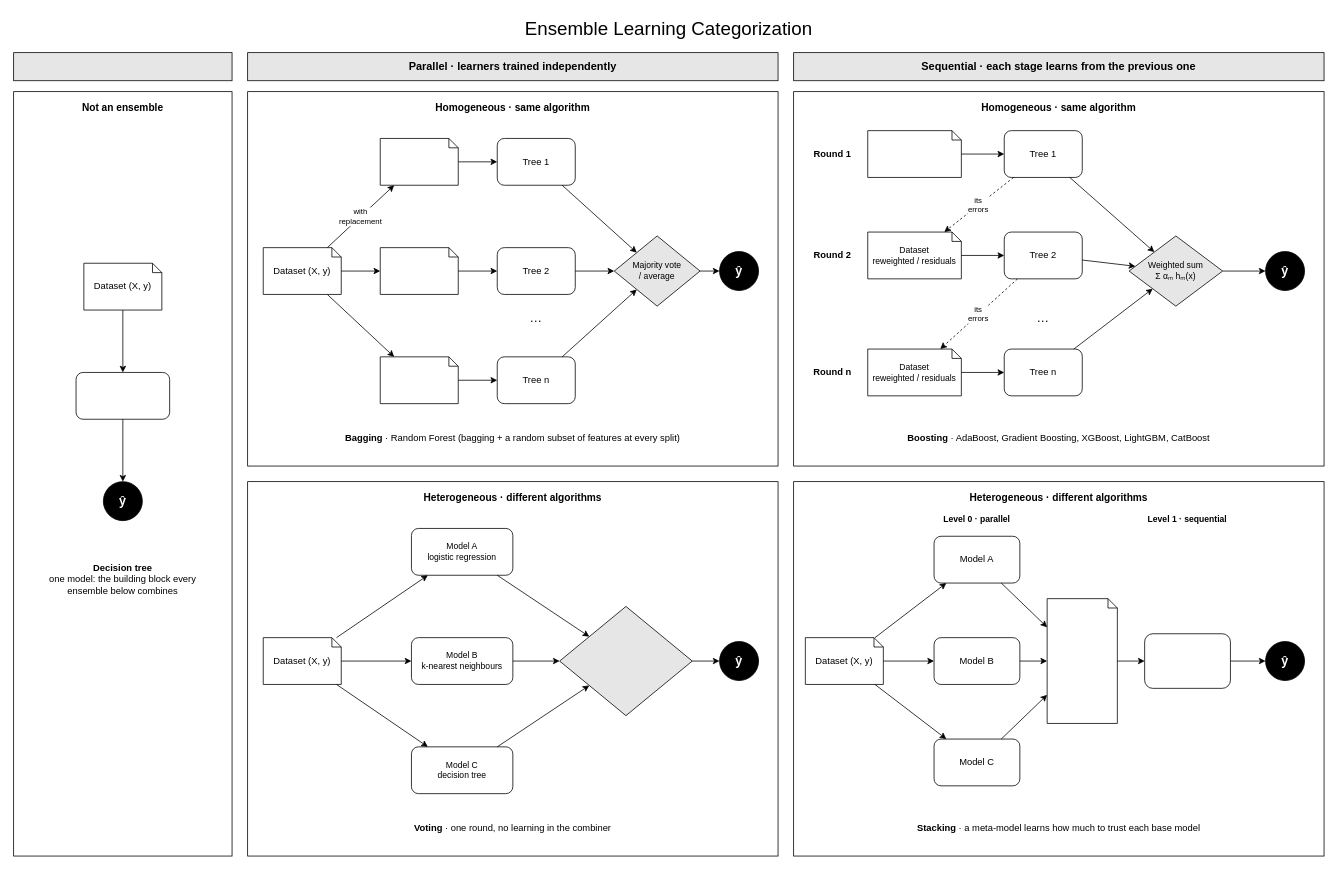
Some shapes in this 1338 by 870 pixel diagram are drawn without their labels. The centre of each missing label's shape, as x and y in pixels:
Bootstrap sample 1: the point at 418,161
Bootstrap sample 2: the point at 418,270
Bootstrap sample n: the point at 418,380
Dataset equal weights: the point at 914,153
Decision tree: the point at 122,395
Meta-model e.g. logistic regression: the point at 1187,660
Out-of-fold predictions (new features): the point at 1081,660
Single model: the point at 122,66
Vote hard: majority soft: mean probability: the point at 625,661
